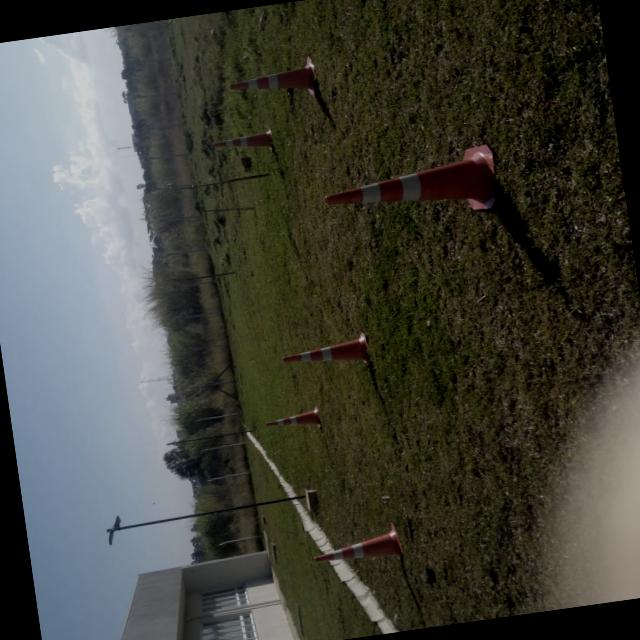cone: (312, 134, 504, 240), (304, 517, 406, 576), (222, 51, 321, 110), (276, 327, 374, 380), (204, 118, 281, 164), (261, 402, 324, 438)
